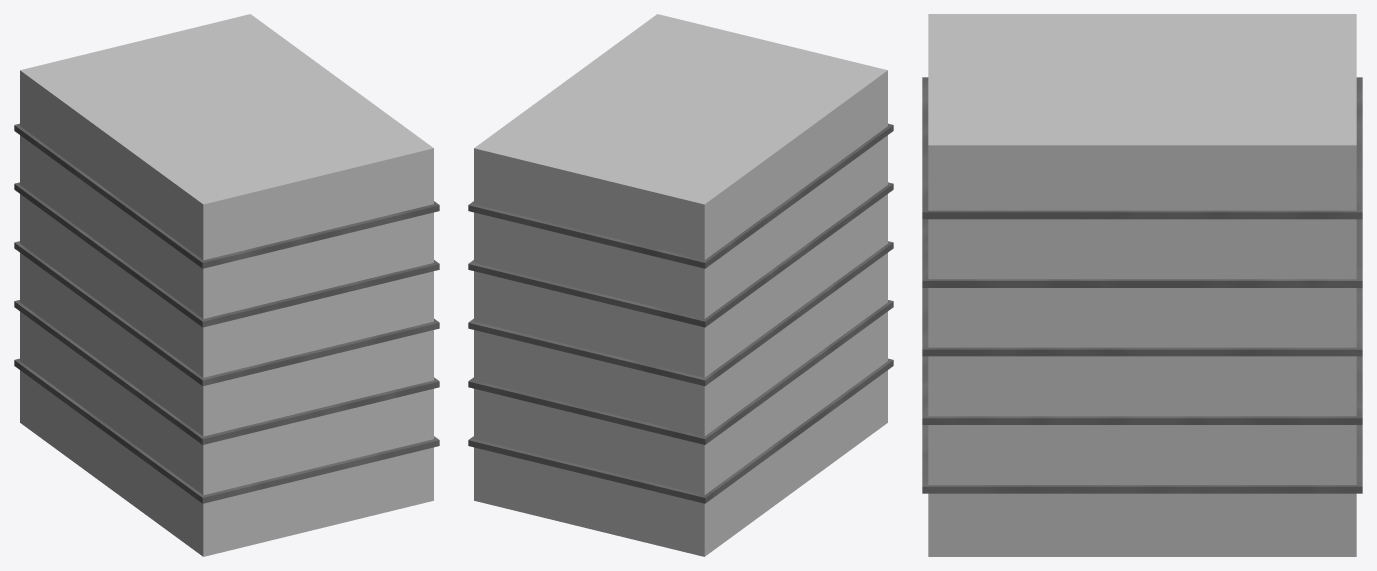
Rendered from Blocos 4.fbx.
3 renders of one model, left to right at view 1: azimuth 30°, elevation 25°; view 2: azimuth 150°, elevation 25°; view 3: azimuth 270°, elevation 25°, orthographic. The views are drawn at different scales.
Visible parts, largest first — view 1: Predio01; view 2: Predio01; view 3: Predio01.
Boxes of the visible parts, x1=… form: Predio01: x1=14, y1=14, x2=439, y2=556; Predio01: x1=468, y1=14, x2=893, y2=556; Predio01: x1=922, y1=14, x2=1362, y2=556.
Size of the model in its own units: 1118 by 1588 by 1540.
